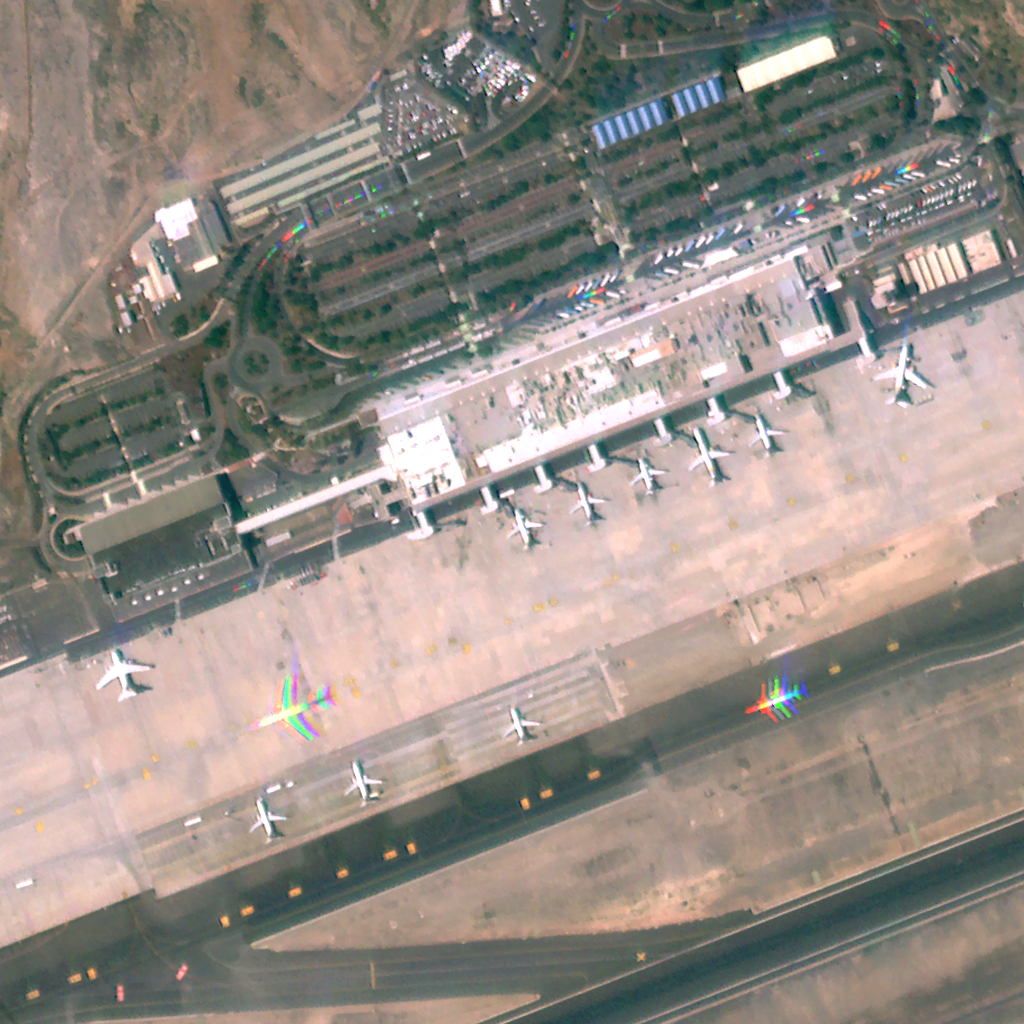plane: (256, 673, 333, 742), (874, 338, 933, 412), (95, 644, 157, 705), (688, 423, 735, 491), (748, 673, 810, 718), (248, 798, 288, 842), (344, 758, 383, 803), (571, 480, 607, 526), (506, 506, 543, 549), (750, 411, 787, 454), (501, 704, 541, 743), (630, 456, 666, 498)
